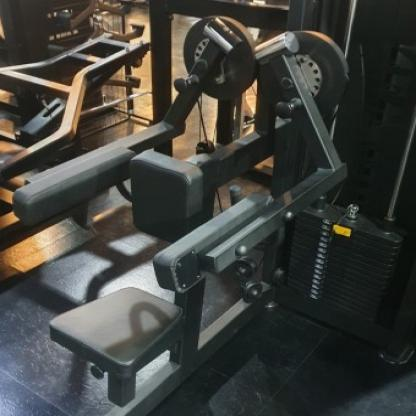lateral raises machine: (14, 16, 353, 416)
